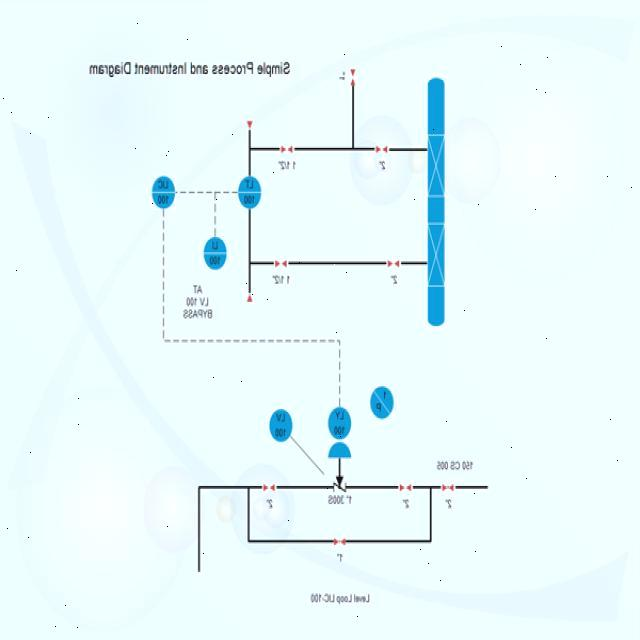Check Valve: (331, 483, 346, 492)
